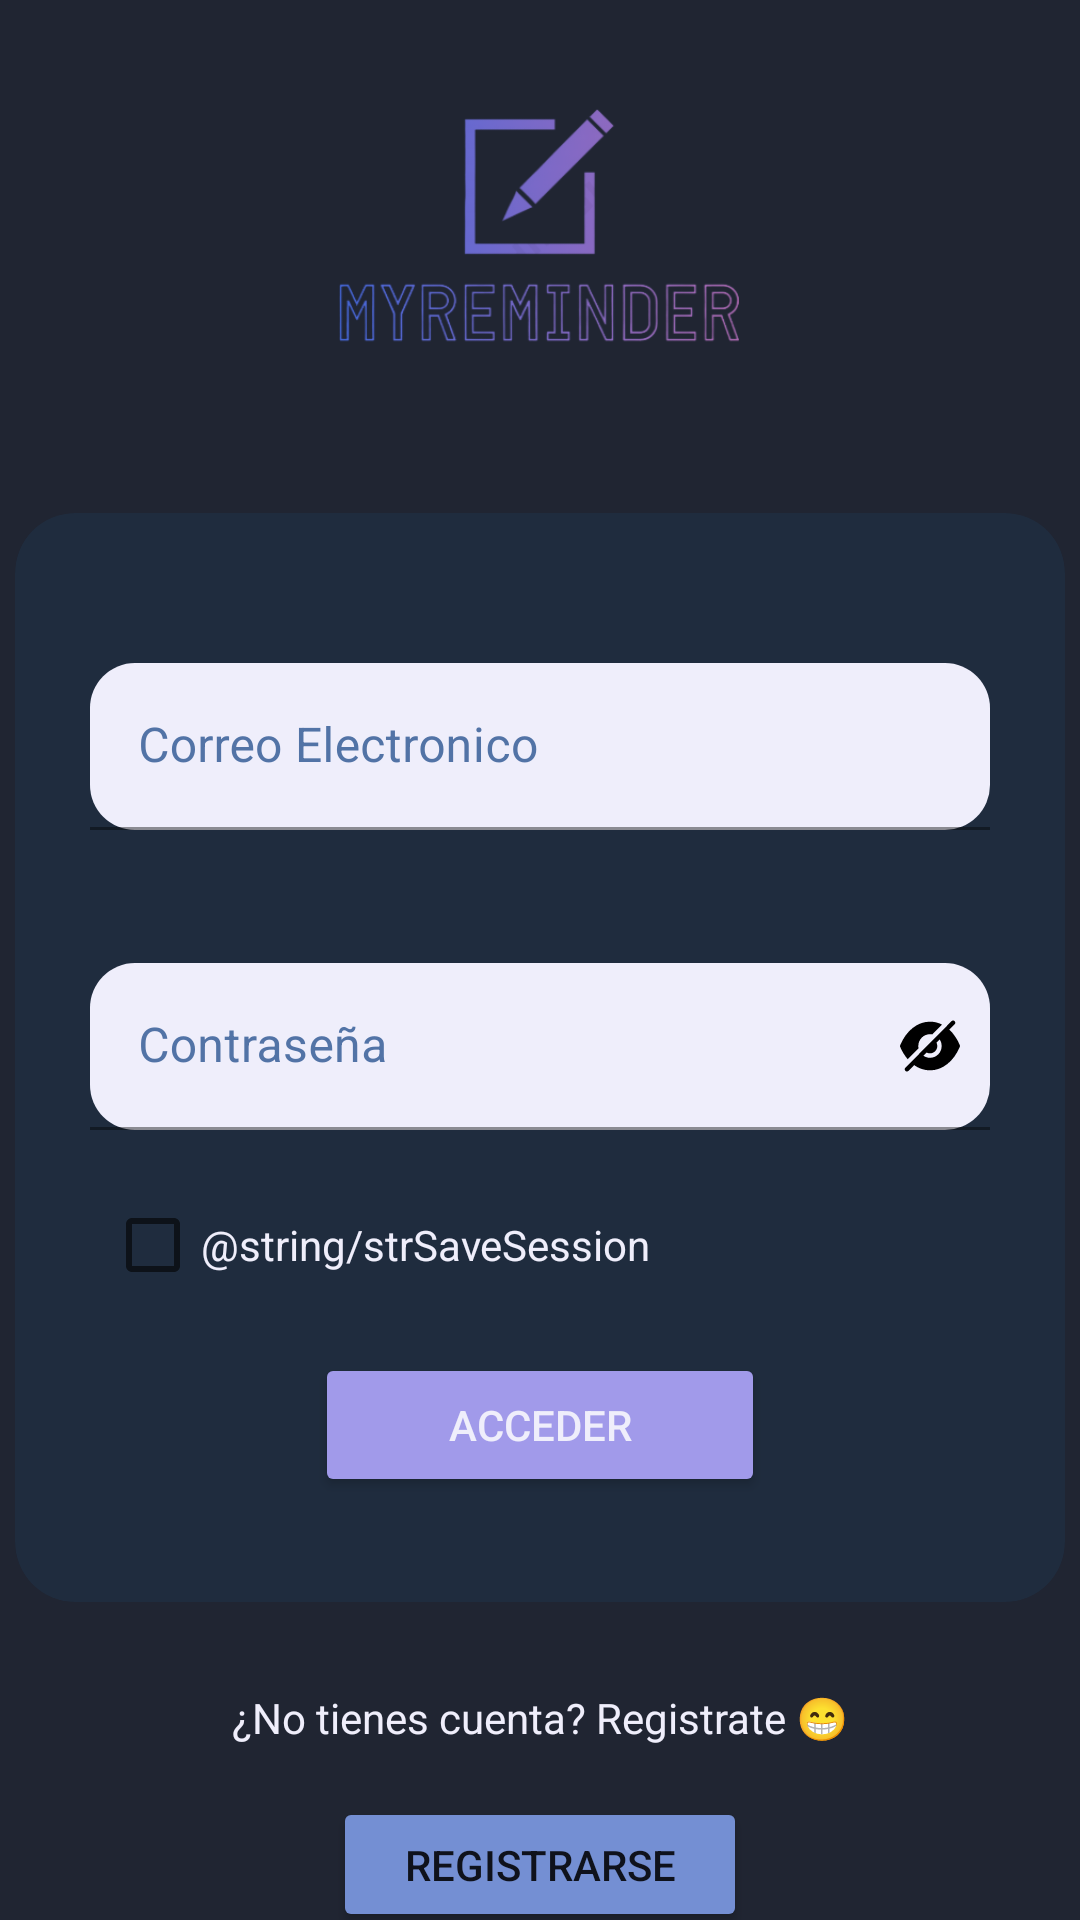

Point at icon controls on the screen. Image size 1080*1920, points as (x=x, y=y).
hide pass: (x=930, y=1046)
